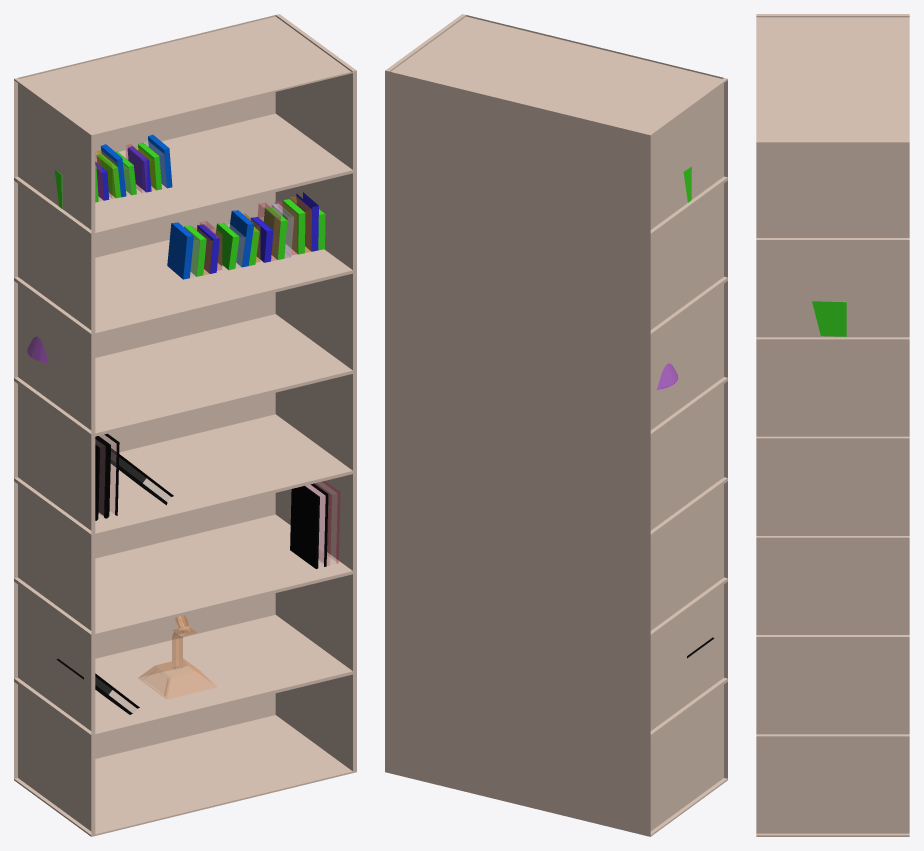
File: BookShelf.fbx
The picture shows the model from 3 angles, left to right: view 1: azimuth 30°, elevation 25°; view 2: azimuth 150°, elevation 25°; view 3: azimuth 270°, elevation 25°; orthographic projection.
Visible parts, largest first — view 1: BookShelf; view 2: BookShelf; view 3: BookShelf.
Boxes of the visible parts, x1,y1,x2,y2 form: BookShelf: [14, 14, 356, 836]; BookShelf: [385, 14, 727, 836]; BookShelf: [756, 14, 909, 836].
Size of the model in its own units: 141 by 351 by 70.
